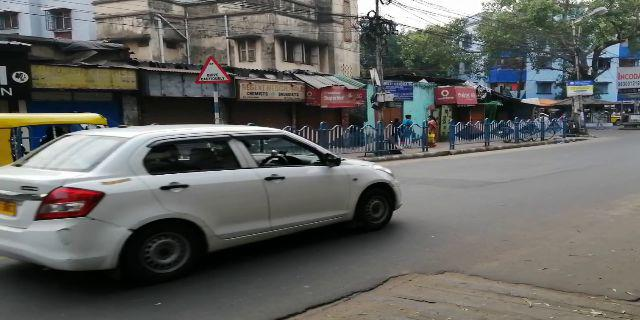Car: (1, 121, 409, 274)
